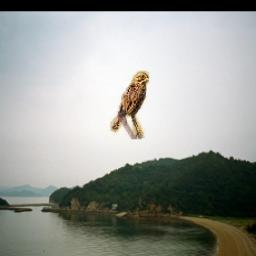Sparrow: (111, 72, 150, 140)
